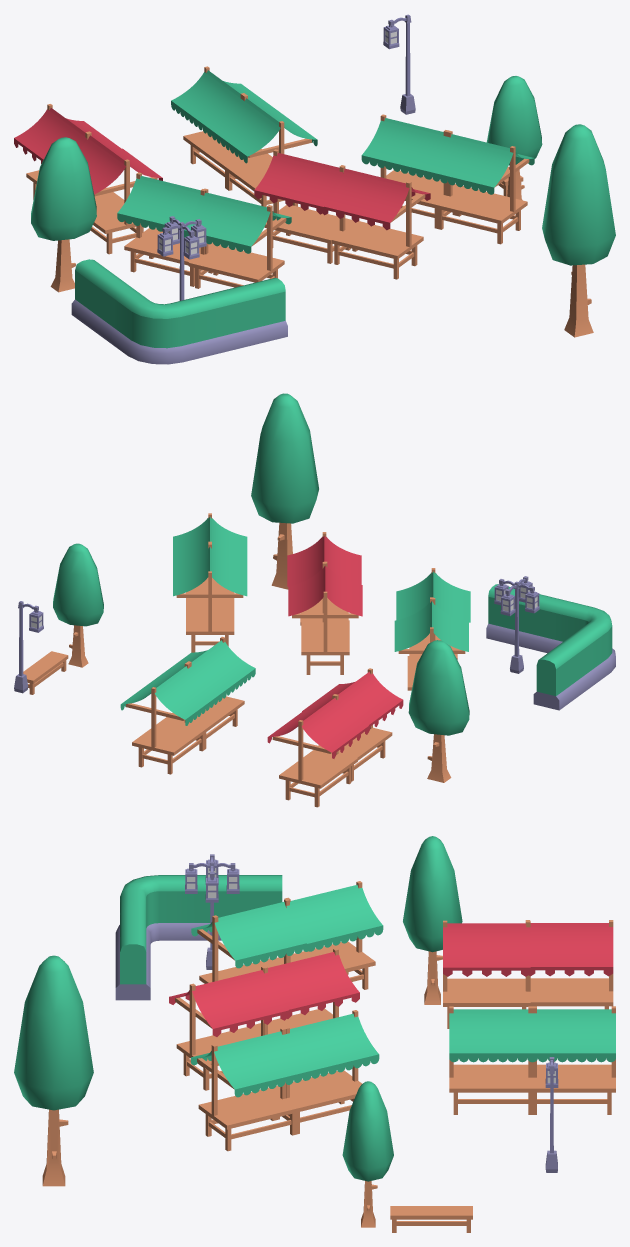
Rendered from open_air_market.glb.
3 views of the same model, one above another, from view 1: azimuth 30°, elevation 25°; view 2: azimuth 150°, elevation 25°; view 3: azimuth 270°, elevation 25° (orthographic). The views are drawn at different scales.
Parts seen in each view (by area): view 1: mergedBlocks(Clone); view 2: mergedBlocks(Clone); view 3: mergedBlocks(Clone).
Part boxes in pixels (bbox=[...]): mergedBlocks(Clone): bbox=[14, 14, 615, 364]; mergedBlocks(Clone): bbox=[14, 393, 615, 807]; mergedBlocks(Clone): bbox=[14, 836, 615, 1232].
Size of the model in its own units: 1.46 by 0.5598 by 1.37.
